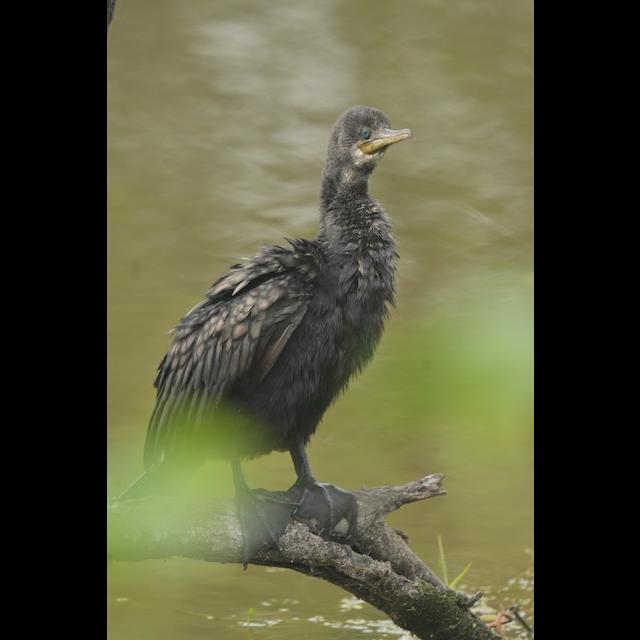cormorant: (146, 94, 424, 540)
